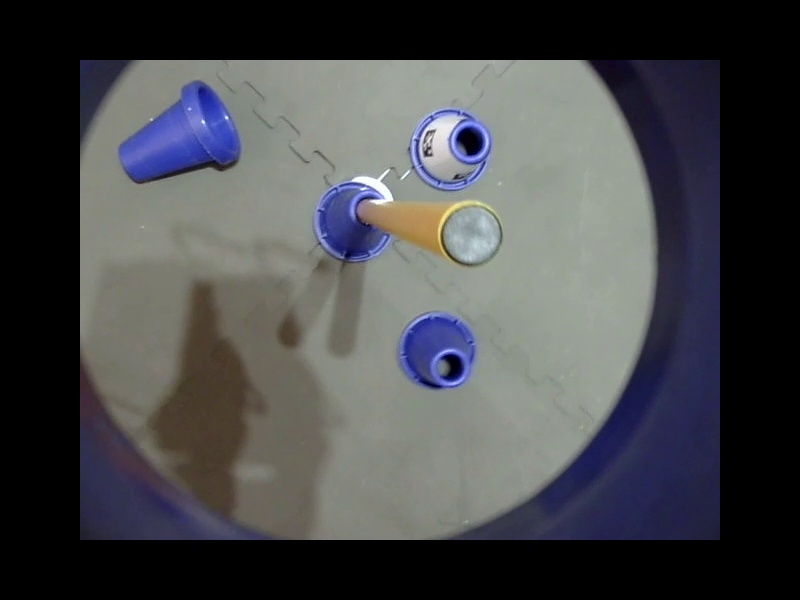tip: (428, 197, 506, 269)
